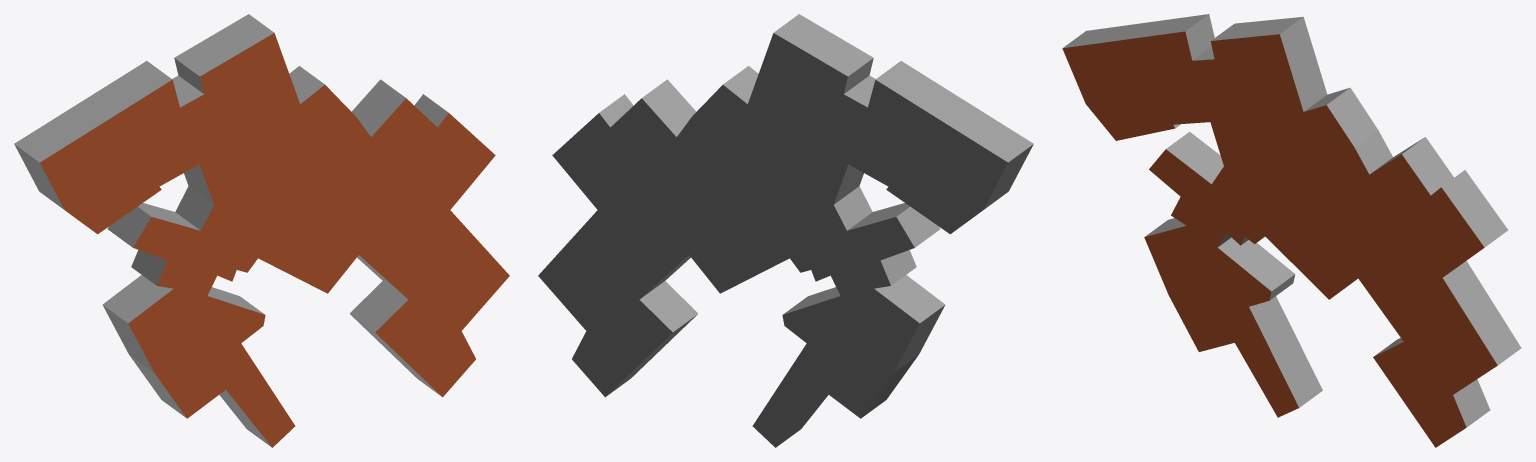
File: construction_7124_assumed_A_Casa_h6m.obj
3 renders of one model, left to right at view 1: azimuth 30°, elevation 25°; view 2: azimuth 150°, elevation 25°; view 3: azimuth 330°, elevation 25°, orthographic. The views are drawn at different scales.
Visible parts, largest first — view 1: construction_7124_assumed_A_Casa; view 2: construction_7124_assumed_A_Casa; view 3: construction_7124_assumed_A_Casa.
Part boxes in pixels (left/top/right/bottom): construction_7124_assumed_A_Casa: left=14, top=14, right=509, bottom=447; construction_7124_assumed_A_Casa: left=538, top=14, right=1033, bottom=447; construction_7124_assumed_A_Casa: left=1062, top=14, right=1521, bottom=447.
Size of the model in its own units: 63.31 by 53.35 by 6.
